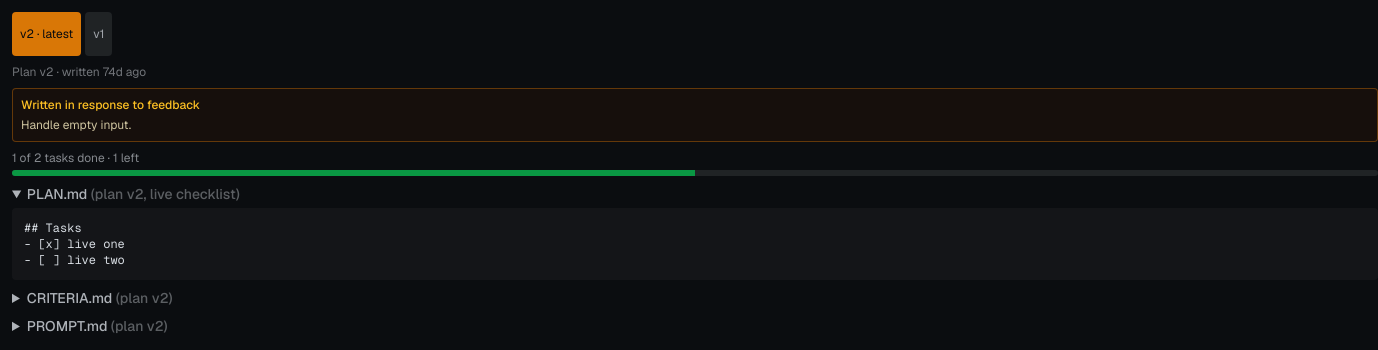
PlanVersions › switches to an earlier version's own PLAN.md
Step 1. Click the button "v1" → (99, 34), box x1=85 y1=12 x2=112 y2=56
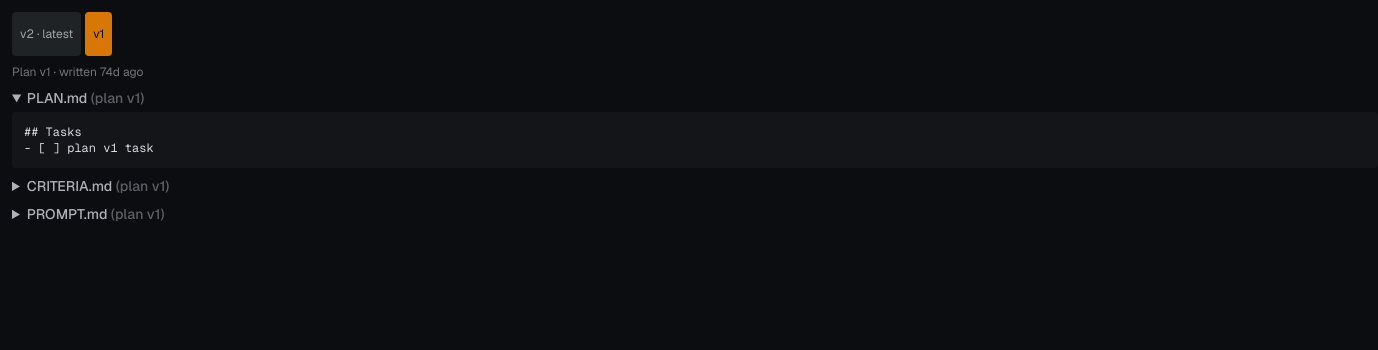
Result: the text "## Tasks - [ ] plan v1 task" is shown at x1=12 y1=112 x2=1377 y2=168
Result: the text "live one" is gone
Result: the text "tasks done" is gone
